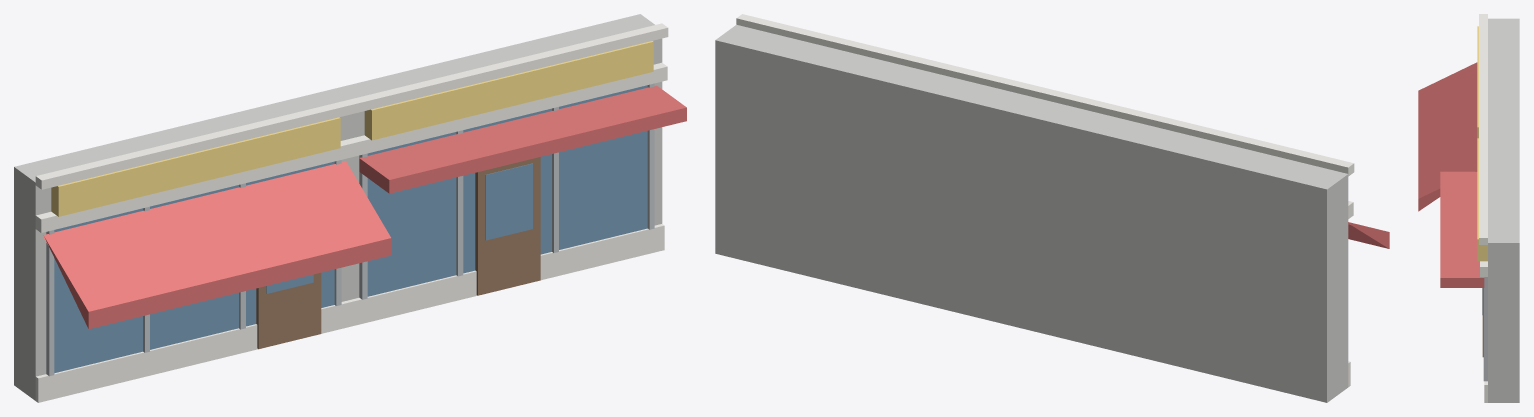
File: storefront_b.glb
The picture shows the model from 3 angles, left to right: view 1: azimuth 30°, elevation 25°; view 2: azimuth 150°, elevation 25°; view 3: azimuth 270°, elevation 25°; orthographic projection. The views are drawn at different scales.
Visible parts, largest first — view 1: storefront_b; view 2: storefront_b; view 3: storefront_b.
Boxes of the visible parts, x1,y1,x2,y2 form: storefront_b: [14, 14, 686, 402]; storefront_b: [715, 14, 1389, 402]; storefront_b: [1418, 14, 1519, 402].
Bounding box in the file's own units: 12 × 4.12 × 2.3.
